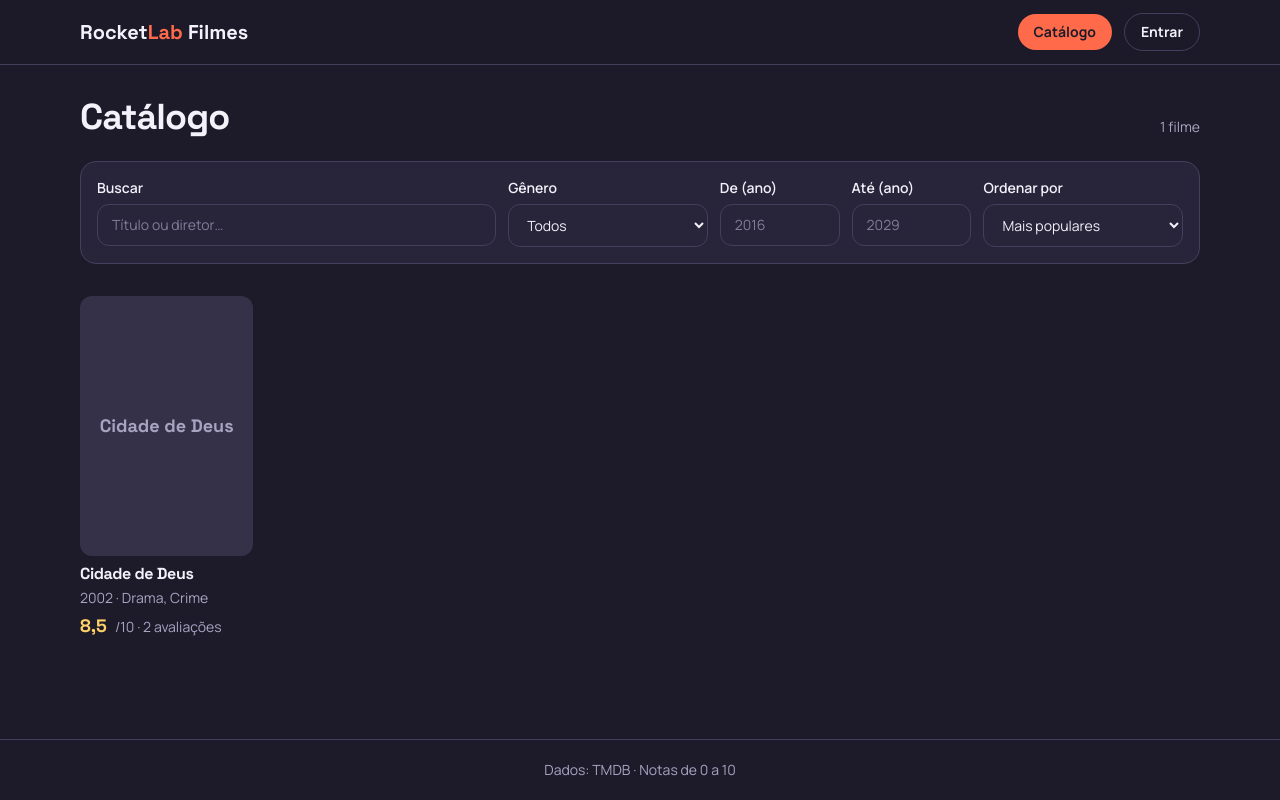
Test: catálogo › busca com debounce e mostra estado vazio com opção de limpar
Check: the heading "Cidade de Deus" is shown, box [80,563,193,584]
In the search field: (297, 225) [97,204,496,246], type "xyz"
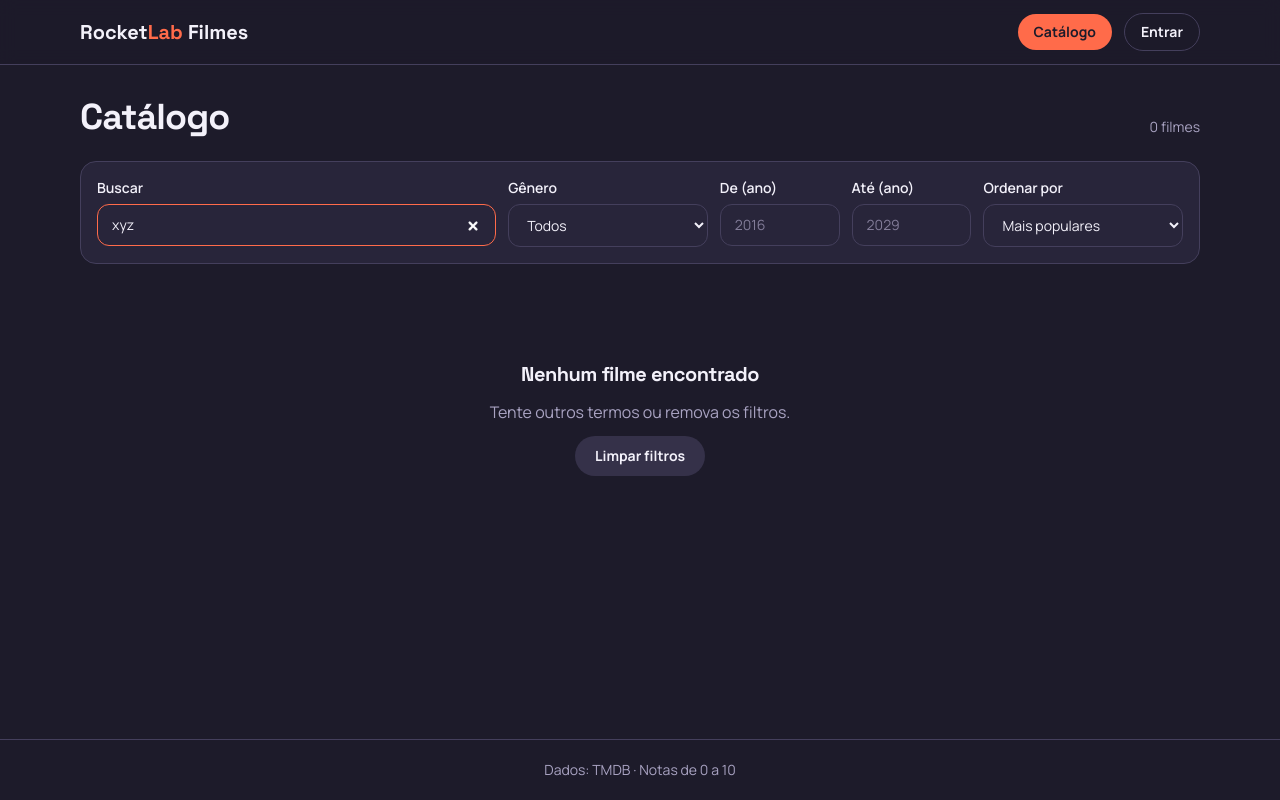
Check: the heading "Nenhum filme encontrado" is shown, box [521,360,759,388]
Click the button "Limpar filtros": (640, 456) [575,436,705,476]
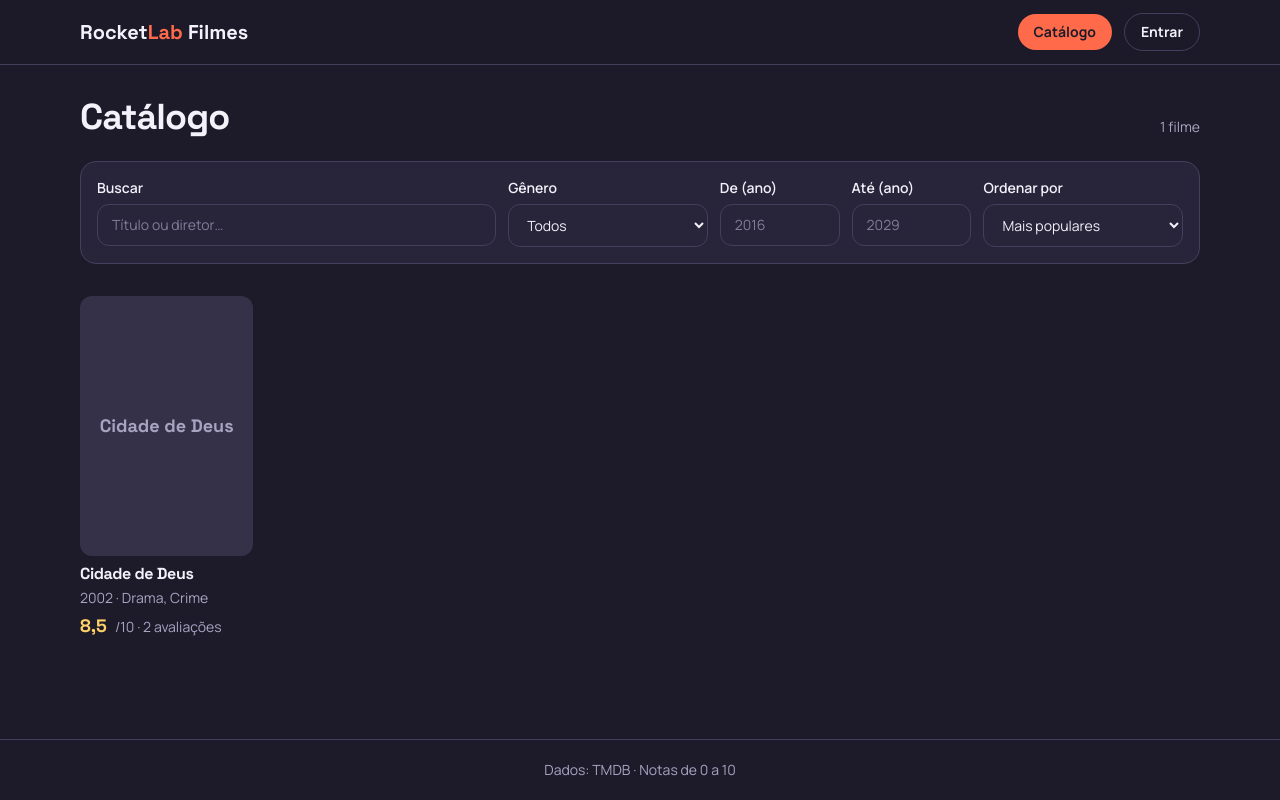
Check: the heading "Cidade de Deus" is shown, box [80,563,193,584]
Check: the search field is empty, box [97,204,496,246]
